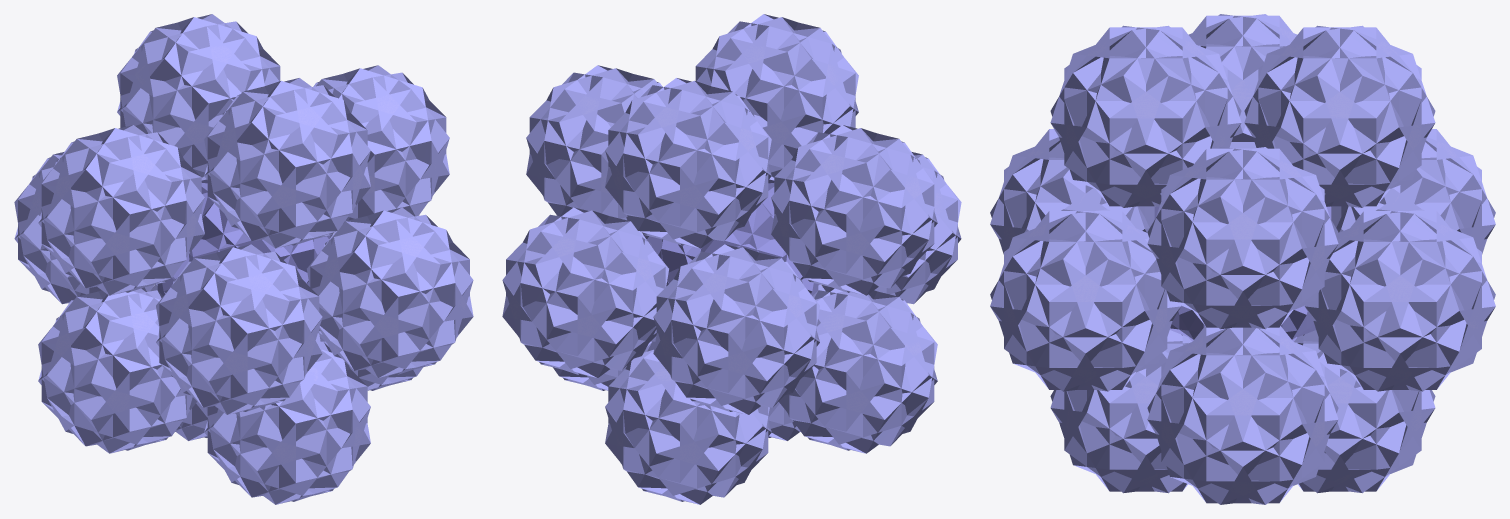
Rendered from fractalicosidodecadodecahedron1.glb.
3 views of the same model, side by side, from view 1: azimuth 30°, elevation 25°; view 2: azimuth 150°, elevation 25°; view 3: azimuth 270°, elevation 25° (orthographic). The views are drawn at different scales.
Size of the model in its own units: 10.78 by 10.78 by 10.78.
